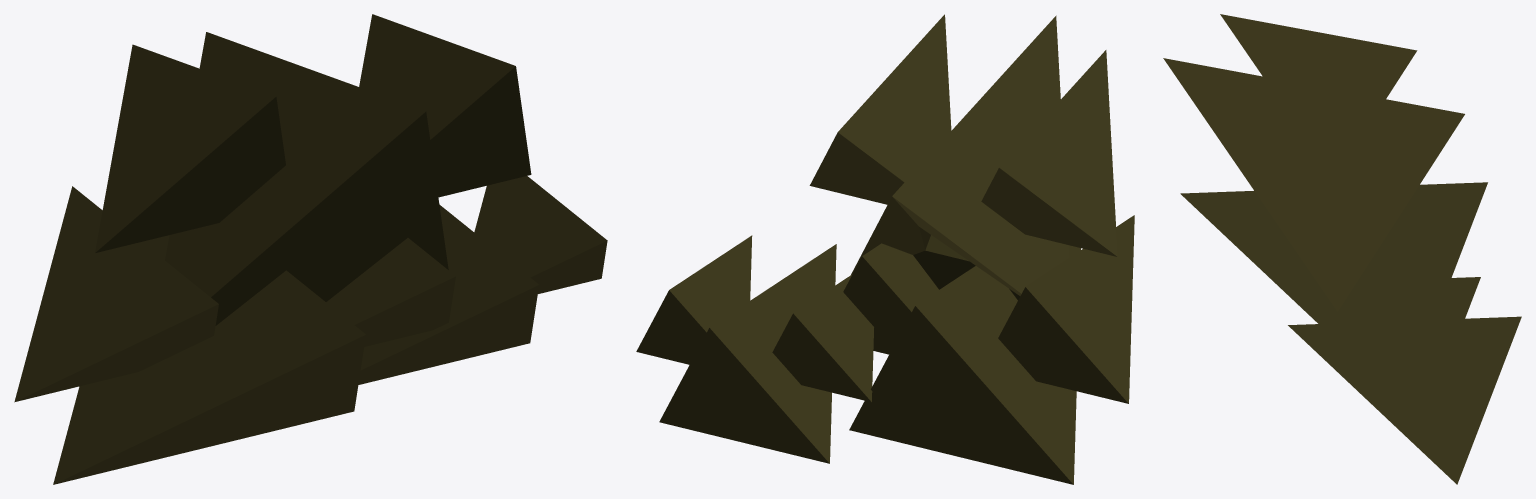
Rendered from chamber_outer.fbx.
3 views of the same model, side by side, from view 1: azimuth 30°, elevation 25°; view 2: azimuth 150°, elevation 25°; view 3: azimuth 270°, elevation 25° (orthographic). The views are drawn at different scales.
Parts seen in each view (by area): view 1: Cone.002; view 2: Cone.002; view 3: Cone.002.
Part boxes in pixels (box(x1,y1,x2,y2)): Cone.002: box(14, 14, 607, 484); Cone.002: box(636, 14, 1134, 484); Cone.002: box(1163, 14, 1521, 484).
Bounding box in the file's own units: 3.59 × 2.62 × 2.6.
